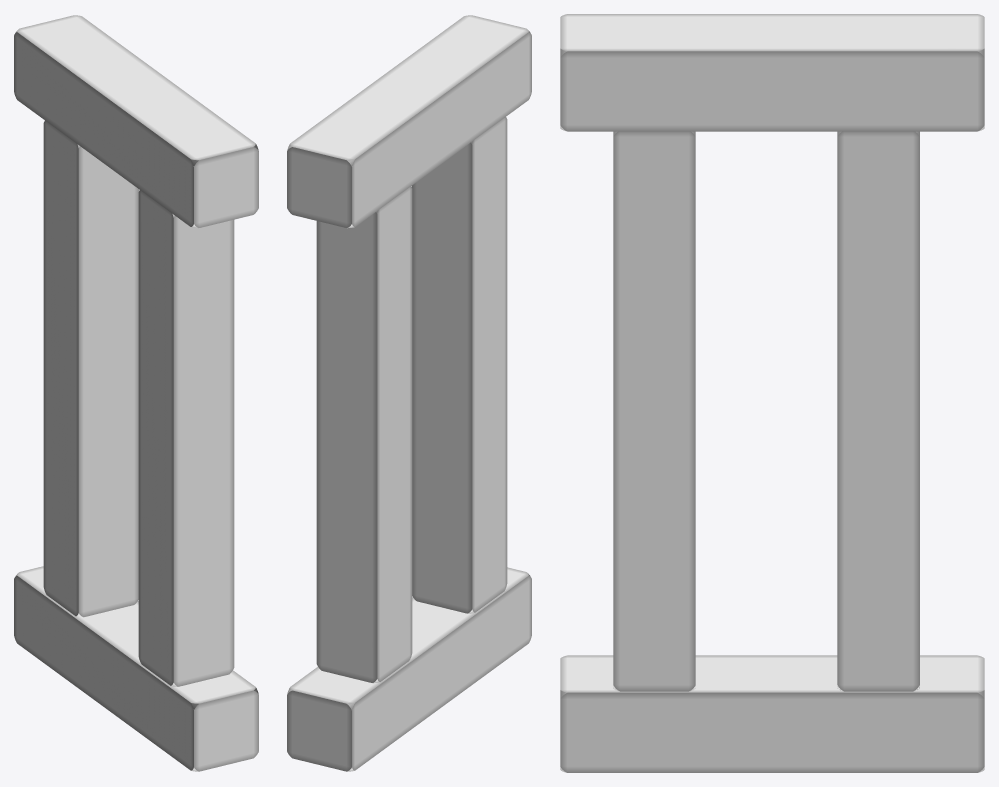
Rendered from road_fence_side.obj.
3 renders of one model, left to right at view 1: azimuth 30°, elevation 25°; view 2: azimuth 150°, elevation 25°; view 3: azimuth 270°, elevation 25°, orthographic. The views are drawn at different scales.
Visible parts, largest first — view 1: cube; view 2: cube; view 3: cube.
Part boxes in pixels (bbox=[...]): cube: bbox=[14, 15, 258, 771]; cube: bbox=[287, 15, 531, 771]; cube: bbox=[560, 14, 984, 772].
Size of the model in its own units: 0.0938 by 0.8438 by 0.45.
